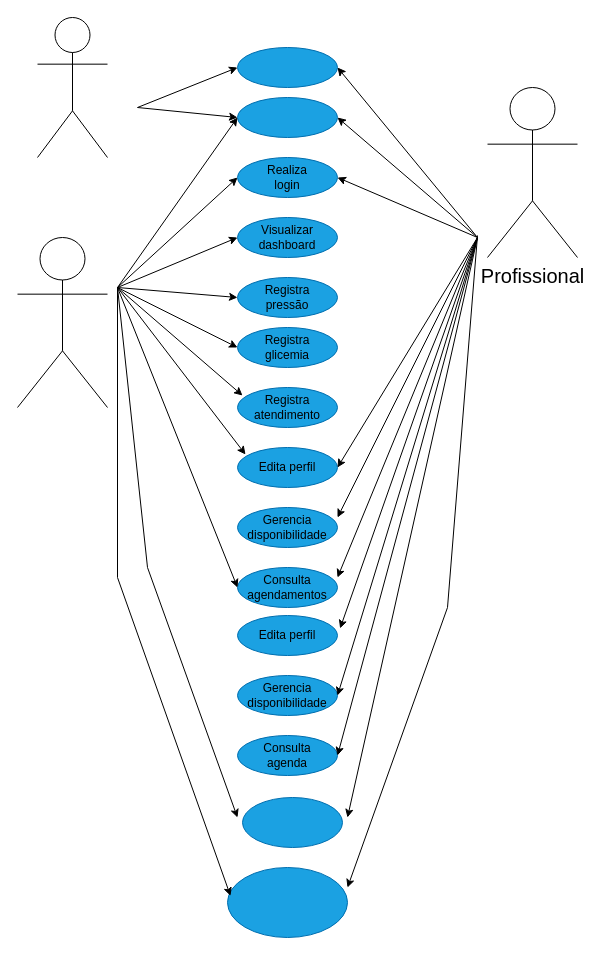
Some shapes in this 601 by 955 pixel diagram are drawn without their labels. The shapes that lost their labels are listed below. From the top down, each one's centre as x and y in pixels, then its label:
(72,87): Visitante
(287,67): Acessa a página
(287,117): Realiza o cadastro
(62,322): Paciente
(292,822): Realiza logout
(287,902): Lê informações sobre saúde
